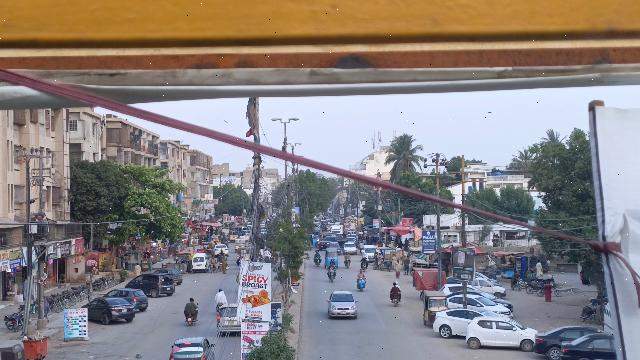Bike: (184, 310, 197, 328), (355, 277, 368, 293), (392, 294, 401, 309), (215, 302, 224, 312)
Car: (463, 312, 536, 352), (534, 324, 607, 358), (432, 308, 494, 338), (79, 296, 135, 325), (557, 333, 615, 360), (126, 272, 176, 297), (168, 337, 216, 360), (326, 289, 359, 320), (106, 288, 150, 311), (215, 303, 243, 335)
Person: (184, 294, 198, 315), (214, 286, 228, 304), (389, 280, 401, 295), (354, 267, 367, 279)
Rickshaw: (420, 289, 447, 326)
